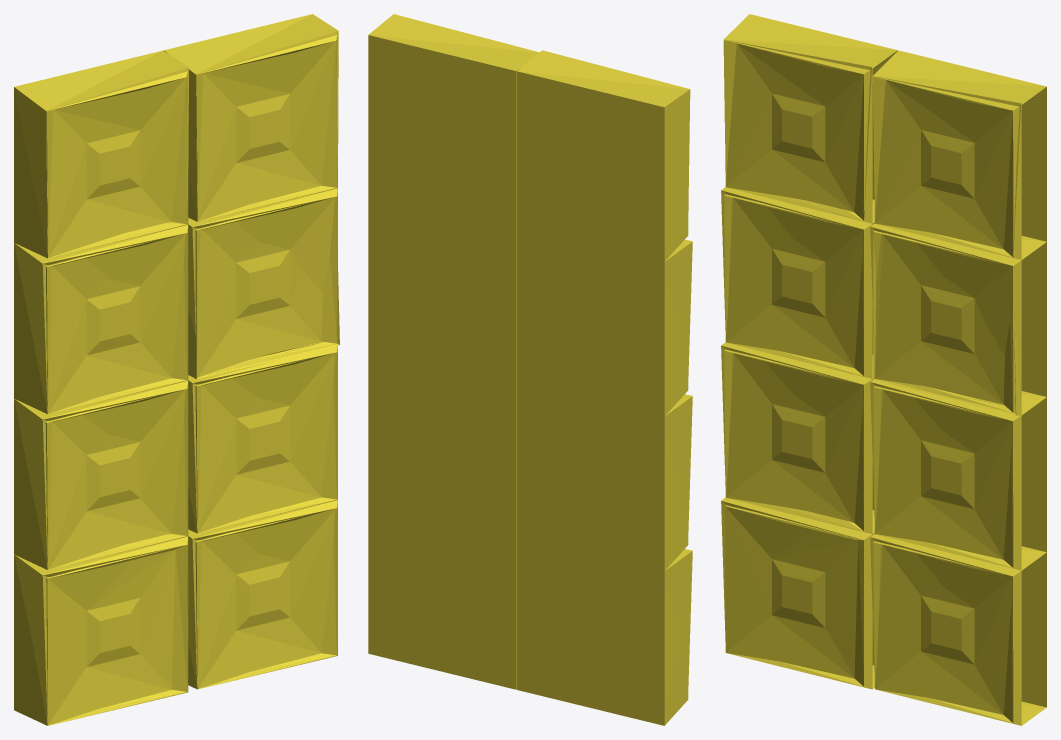
Rendered from PortaLateral.LOW.fbx.
3 renders of one model, left to right at view 1: azimuth 30°, elevation 25°; view 2: azimuth 150°, elevation 25°; view 3: azimuth 330°, elevation 25°, orthographic.
Visible parts, largest first — view 1: PortaLateral.LOW; view 2: PortaLateral.LOW; view 3: PortaLateral.LOW.
Part boxes in pixels (<box>): PortaLateral.LOW: <box>14,14,339,725</box>; PortaLateral.LOW: <box>368,14,692,725</box>; PortaLateral.LOW: <box>721,14,1046,725</box>.
Size of the model in its own units: 95.21 by 190 by 16.14.
